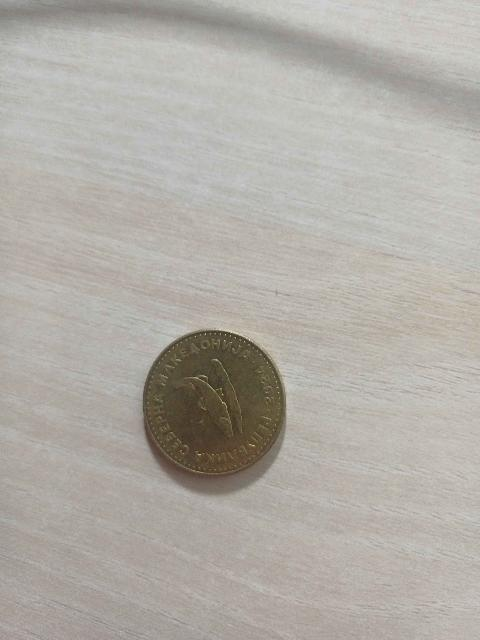2_coin: (144, 330, 285, 474)
